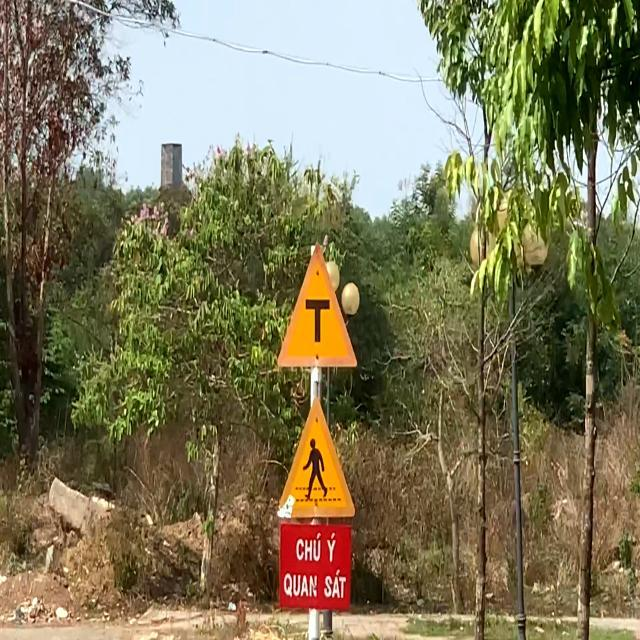W-205d: (274, 243, 360, 372)
W-224: (274, 398, 356, 522)
